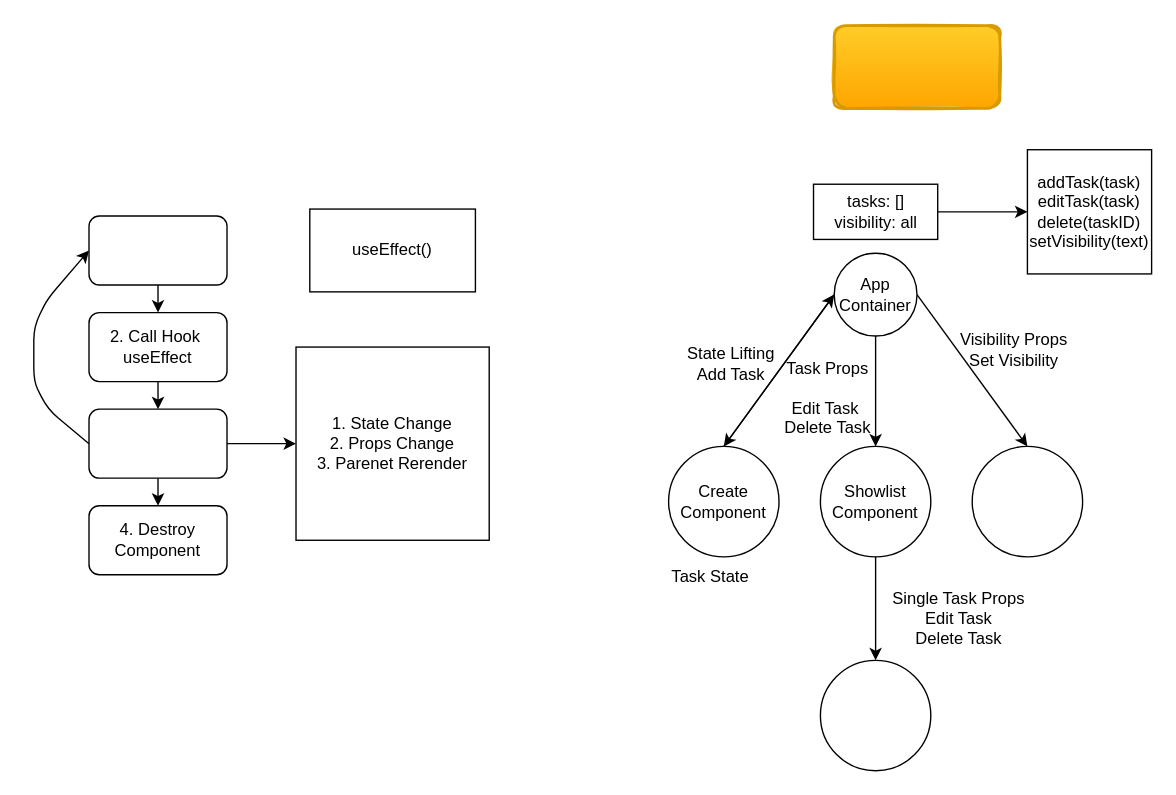
This 1176x795 diagram has some shape labels left out. Each missing label, with the box of its shape:
1. Render: (88, 215, 227, 285)
3. Rerender: (88, 408, 227, 478)
Filter Component: (971, 445, 1083, 557)
List Item: (819, 659, 931, 771)
Task: (832, 23, 1000, 109)
